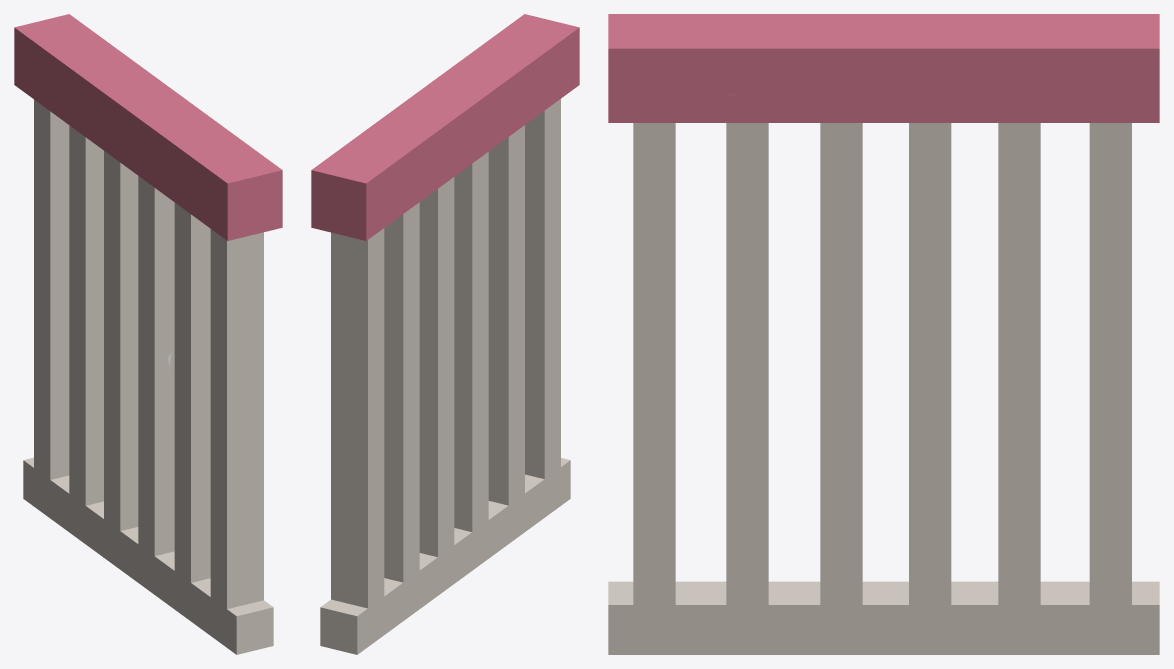
The model's file is well1.obj.
3 views of the same model, side by side, from view 1: azimuth 30°, elevation 25°; view 2: azimuth 150°, elevation 25°; view 3: azimuth 270°, elevation 25° (orthographic). The views are drawn at different scales.
Parts seen in each view (by area): view 1: 立方体.001, 立方体.002; view 2: 立方体.001, 立方体.002; view 3: 立方体.001, 立方体.002.
Part boxes in pixels (x1,y1,x2,y2): 立方体.001: (23, 99, 273, 654); 立方体.002: (14, 14, 282, 240); 立方体.001: (320, 99, 570, 654); 立方体.002: (311, 14, 579, 240); 立方体.001: (608, 123, 1159, 654); 立方体.002: (608, 14, 1159, 122).
Size of the model in its own units: 0.2977 by 2.45 by 2.
Materials: 1 (1 with a texture image).
